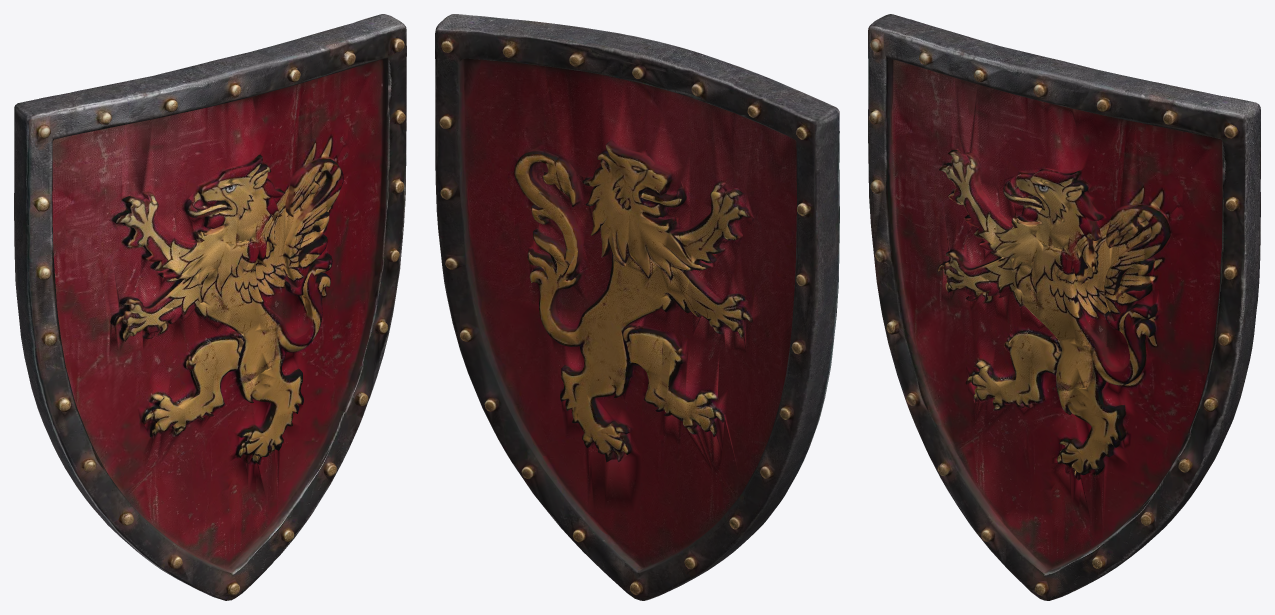
The model's file is black-shield-ordenador.glb.
The picture shows the model from 3 angles, left to right: view 1: azimuth 30°, elevation 25°; view 2: azimuth 150°, elevation 25°; view 3: azimuth 330°, elevation 25°; orthographic projection. The views are drawn at different scales.
Visible parts, largest first — view 1: tripo_node_161017f1-e1aa-4f9a-8ba3-708ba42ae7f9; view 2: tripo_node_161017f1-e1aa-4f9a-8ba3-708ba42ae7f9; view 3: tripo_node_161017f1-e1aa-4f9a-8ba3-708ba42ae7f9.
Part boxes in pixels (x1,y1,x2,y2): tripo_node_161017f1-e1aa-4f9a-8ba3-708ba42ae7f9: (14,14,406,600); tripo_node_161017f1-e1aa-4f9a-8ba3-708ba42ae7f9: (435,14,839,600); tripo_node_161017f1-e1aa-4f9a-8ba3-708ba42ae7f9: (868,14,1260,600).
Bounding box in the file's own units: 0.7358 × 0.9807 × 0.1371.
1 material, 1 textured.
